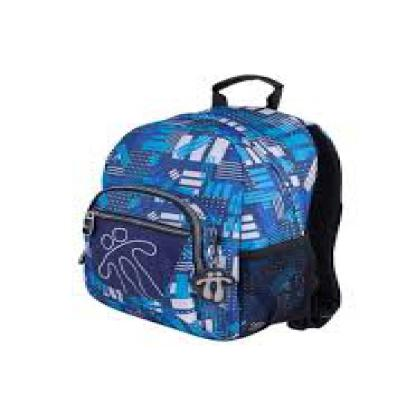morral: (63, 74, 364, 345)
